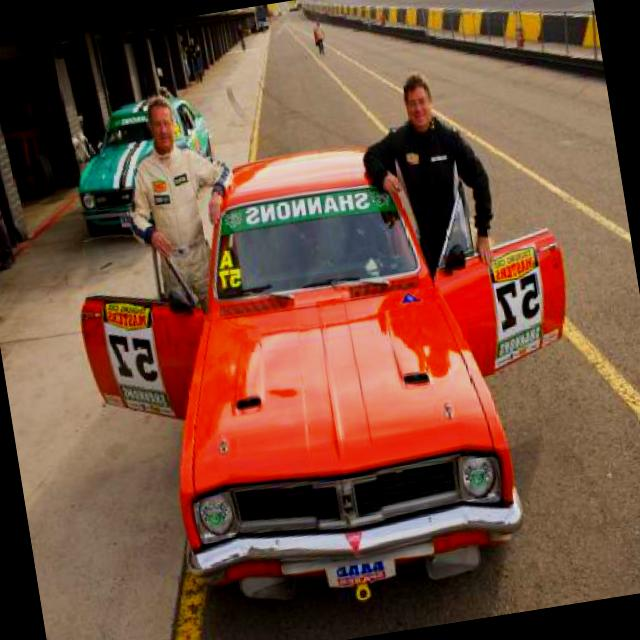Person: (350, 58, 504, 293), (110, 85, 256, 327), (0, 84, 12, 274), (312, 18, 326, 58)
